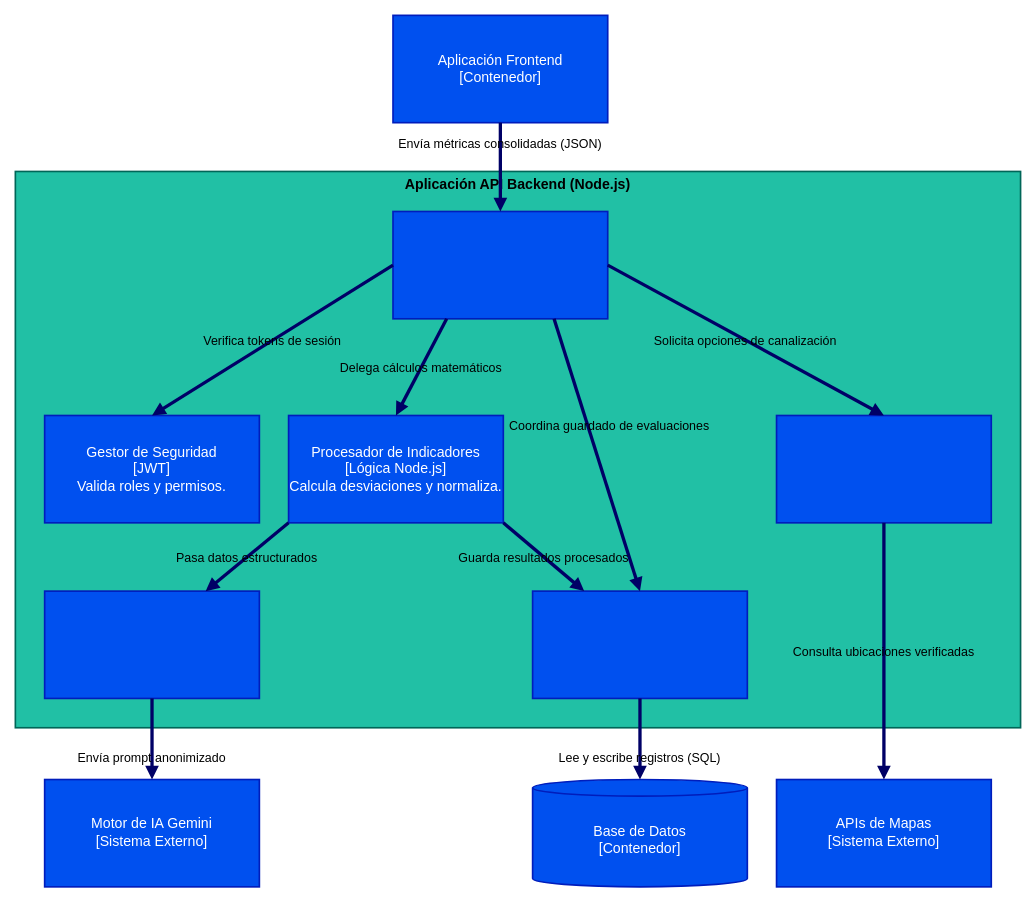
The diagram is 1036 pixels wide and 901 high, and some of its shapes have lost their labels. The shapes that lost their labels are listed below. From the top down, each one's box as (x1, y1, x2, y2) in pixels, then its label:
(392, 210, 608, 319): Controlador API [Express.js] Enruta peticiones entrantes.
(775, 414, 992, 523): Servicio de Canalización [Lógica Node.js] Busca especialistas médicos.
(43, 590, 260, 699): Orquestador IA [LangChain] Construye prompts estructurados.
(531, 590, 748, 699): Capa de Acceso a Datos [ORM SQL] Gestiona persistencia.
